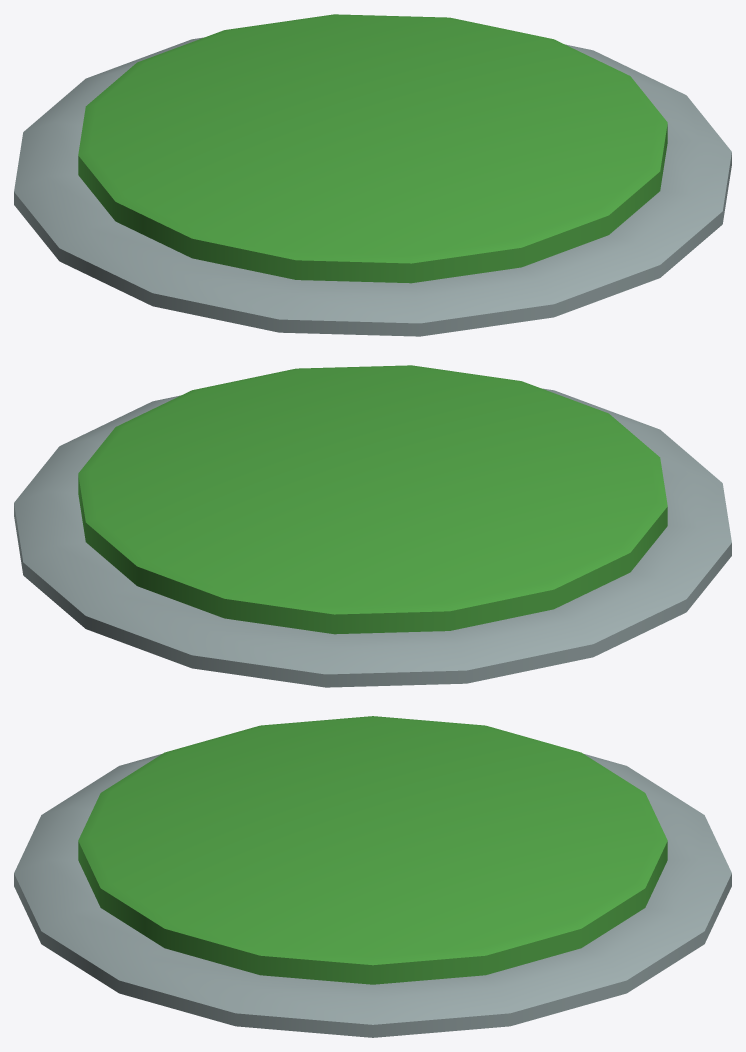
File: button.fbx
The picture shows the model from 3 angles, top to bottom: view 1: azimuth 30°, elevation 25°; view 2: azimuth 150°, elevation 25°; view 3: azimuth 270°, elevation 25°; orthographic projection.
Parts seen in each view (by area): view 1: Activator, Base; view 2: Activator, Base; view 3: Activator, Base.
Boxes of the visible parts, x1,y1,x2,y2 form: Activator: (78, 14, 667, 283); Base: (14, 37, 731, 336); Activator: (78, 365, 667, 634); Base: (14, 388, 731, 687); Activator: (78, 716, 667, 984); Base: (14, 753, 731, 1037).
Size of the model in its own units: 100 by 7.5 by 100.
